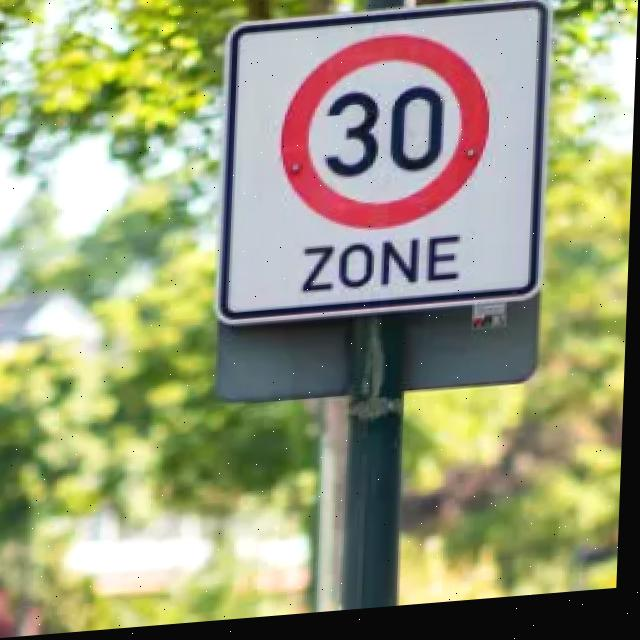Speed limit 30: (276, 31, 497, 244)
